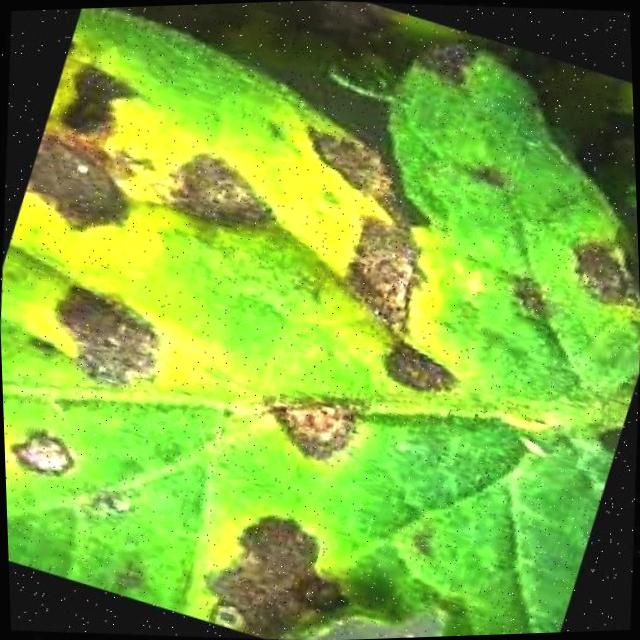Septoria_Blight: (0, 6, 640, 640)
